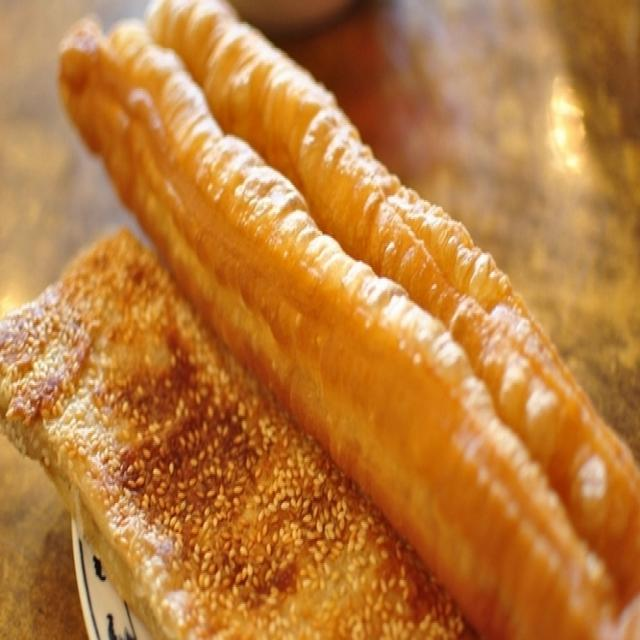炸货点心: (32, 21, 605, 609)
